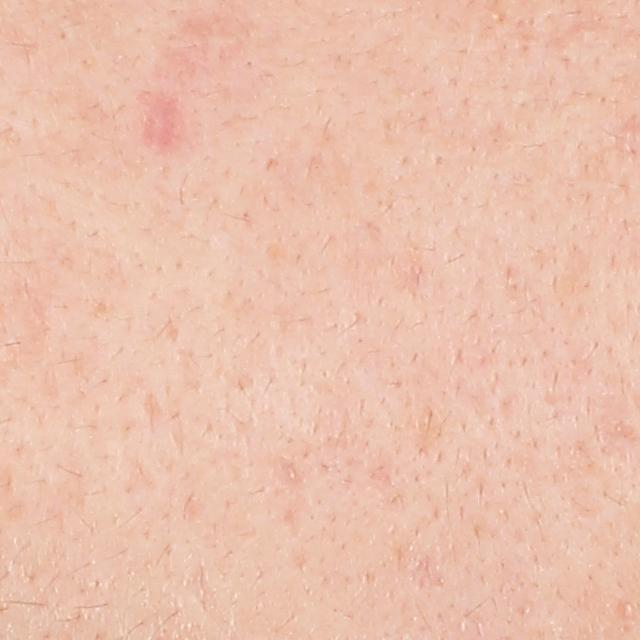atrophic_scar: (141, 386, 169, 431)
comedo: (617, 599, 635, 618)
